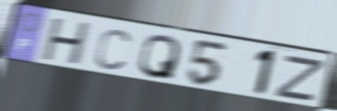1: (252, 49, 279, 99)
5: (184, 37, 230, 89)
C: (94, 27, 133, 72)
H: (38, 17, 93, 68)
Q: (136, 34, 182, 82)
Z: (271, 54, 328, 104)
